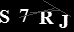7: (18, 8, 30, 23)
J: (57, 14, 70, 29)
R: (39, 10, 54, 25)
S: (1, 9, 10, 24)
